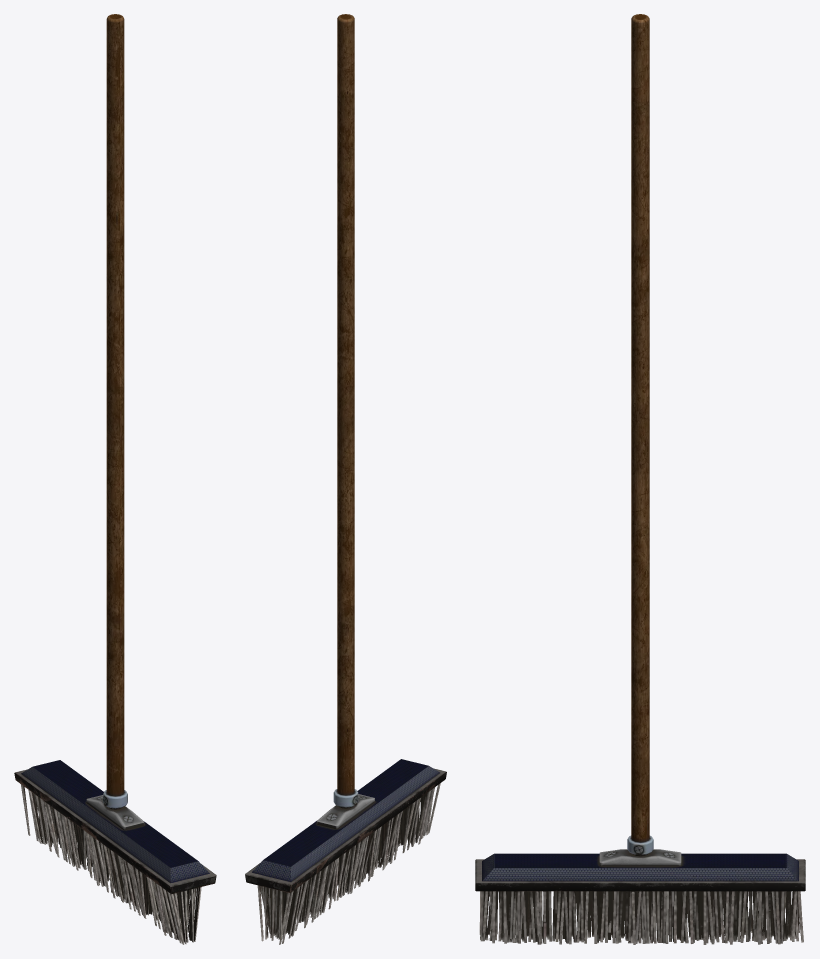
Rendered from broom_wood_-_5mb-opt.glb.
3 views of the same model, side by side, from view 1: azimuth 30°, elevation 25°; view 2: azimuth 150°, elevation 25°; view 3: azimuth 270°, elevation 25° (orthographic). The views are drawn at different scales.
Parts seen in each view (by area): view 1: Object_0__0; view 2: Object_0__0; view 3: Object_0__0.
Boxes of the visible parts, left/top/right/bottom form: Object_0__0: left=14, top=14, right=216, bottom=944; Object_0__0: left=245, top=14, right=446, bottom=944; Object_0__0: left=475, top=14, right=805, bottom=944.
Bounding box in the file's own units: 12.42 × 220 × 71.39.
Materials: 1 (1 with a texture image).
